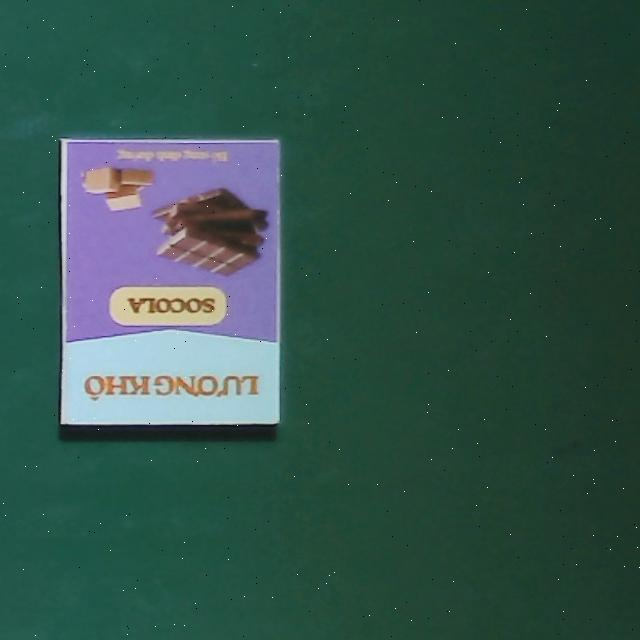socola: (60, 142, 281, 426)
